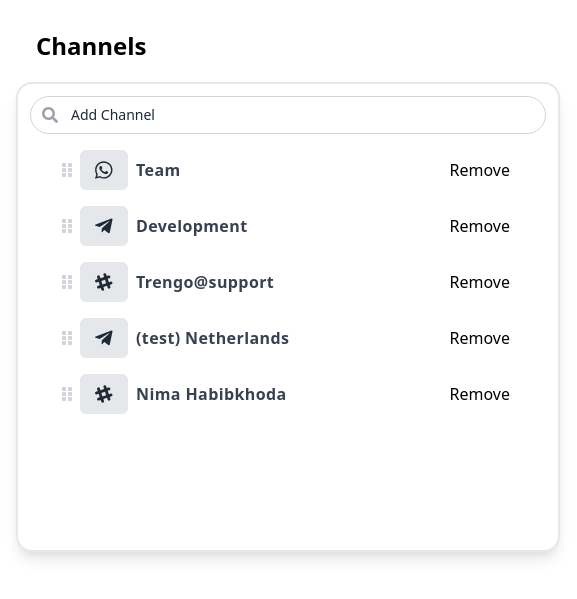
Test: Search box test › Add a new row
In the field with test id "search": (288, 115) [30,96,546,134], type "Nima"
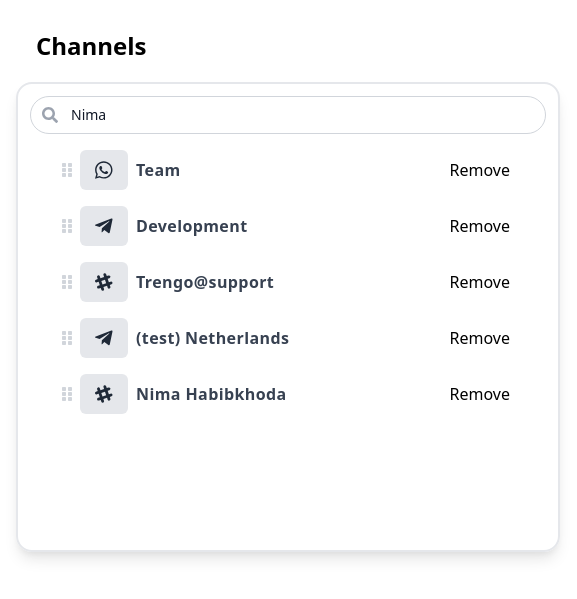
Press Enter in the field with test id "search", box [30,96,546,134]
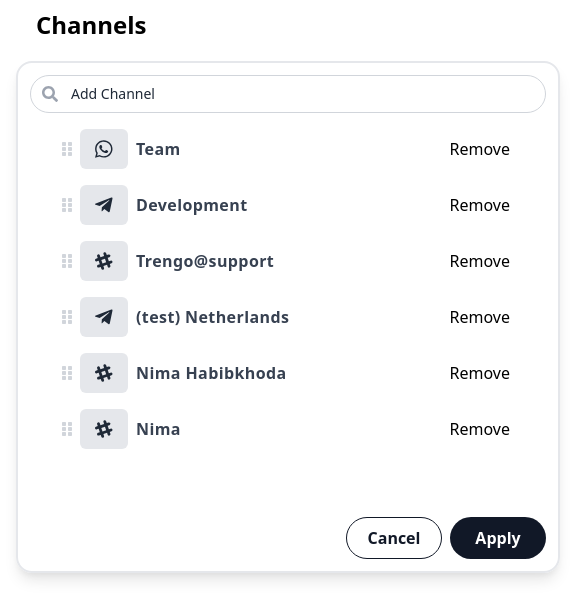
expect the text "Nima" is shown: met, box [136,417,181,441]
